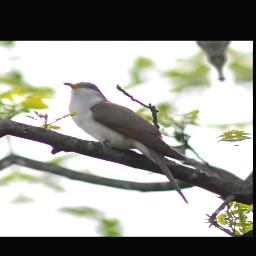Cuckoo: (61, 73, 200, 216)
